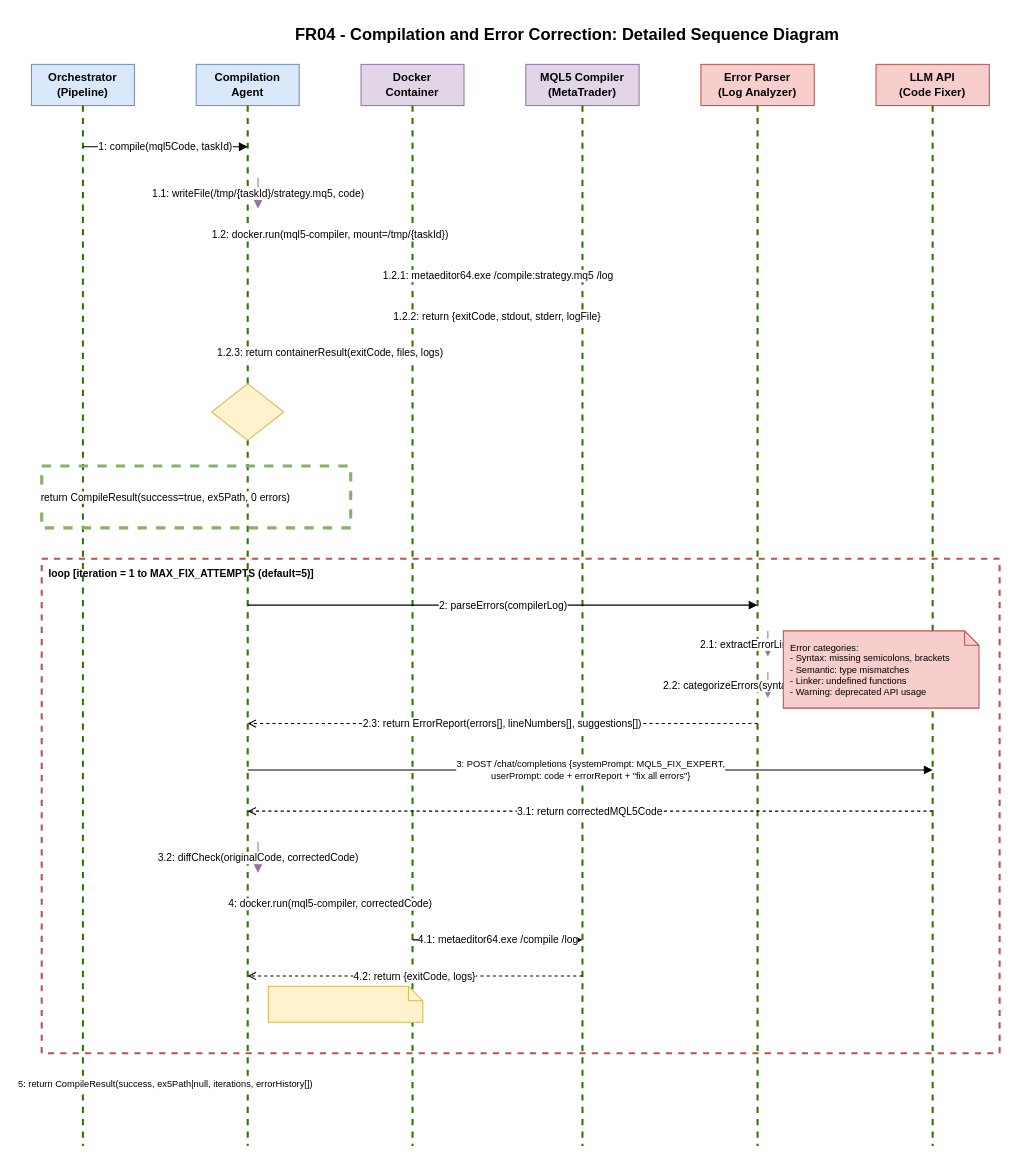
Image size: 1018x1165. Some labels were removed from this diagram. The centre of each missing label's shape, as x and y in pixels:
[break] if exitCode == 0 or iteration == MAX: the point at 345,1003
alt [Compilation SUCCESS - exitCode == 0]: the point at 196,496
exitCode == 0?: the point at 247,411
